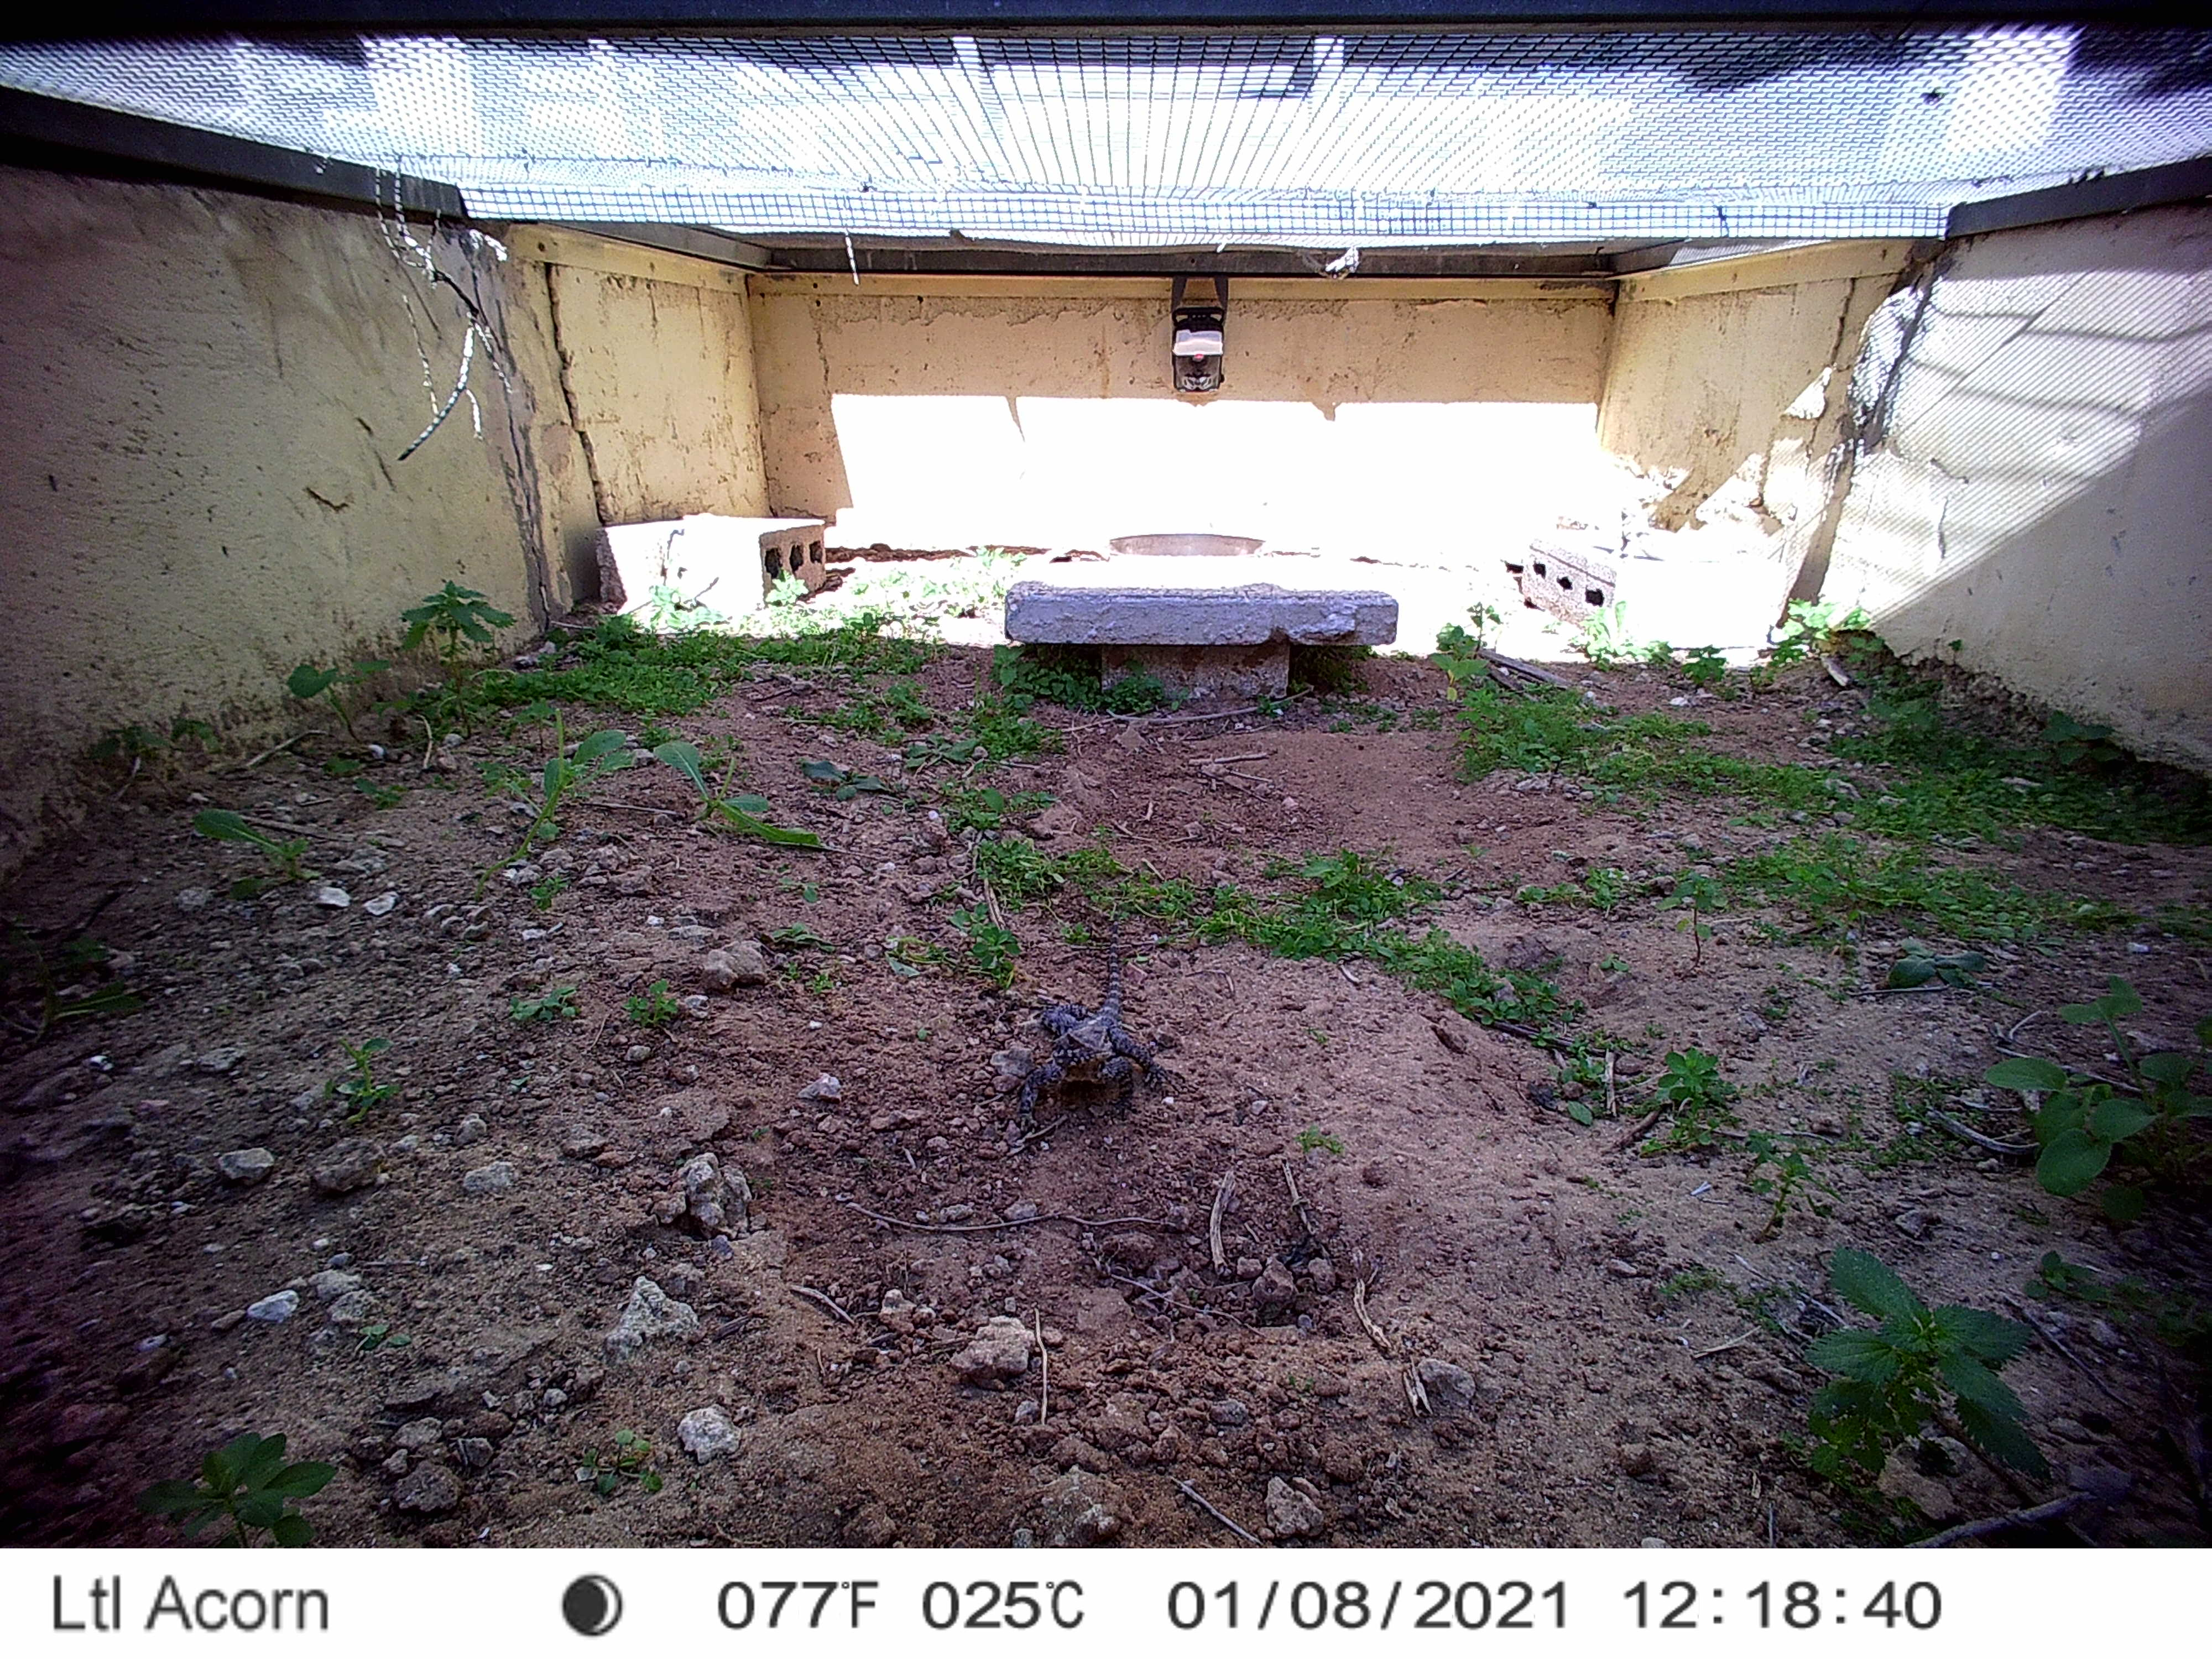lizard: (1005, 915, 1184, 1138), (1609, 505, 1669, 565), (1291, 242, 1367, 282)
